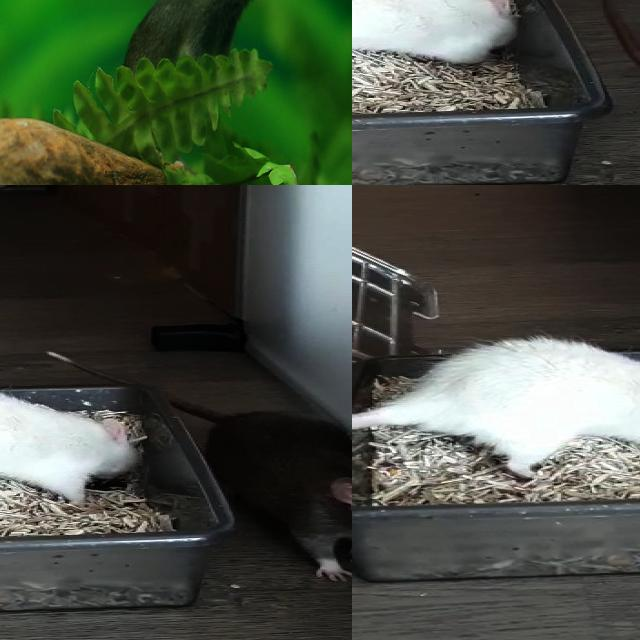rat: (393, 338, 640, 470), (204, 411, 352, 586), (0, 369, 156, 522), (133, 0, 295, 93), (352, 0, 519, 87)
